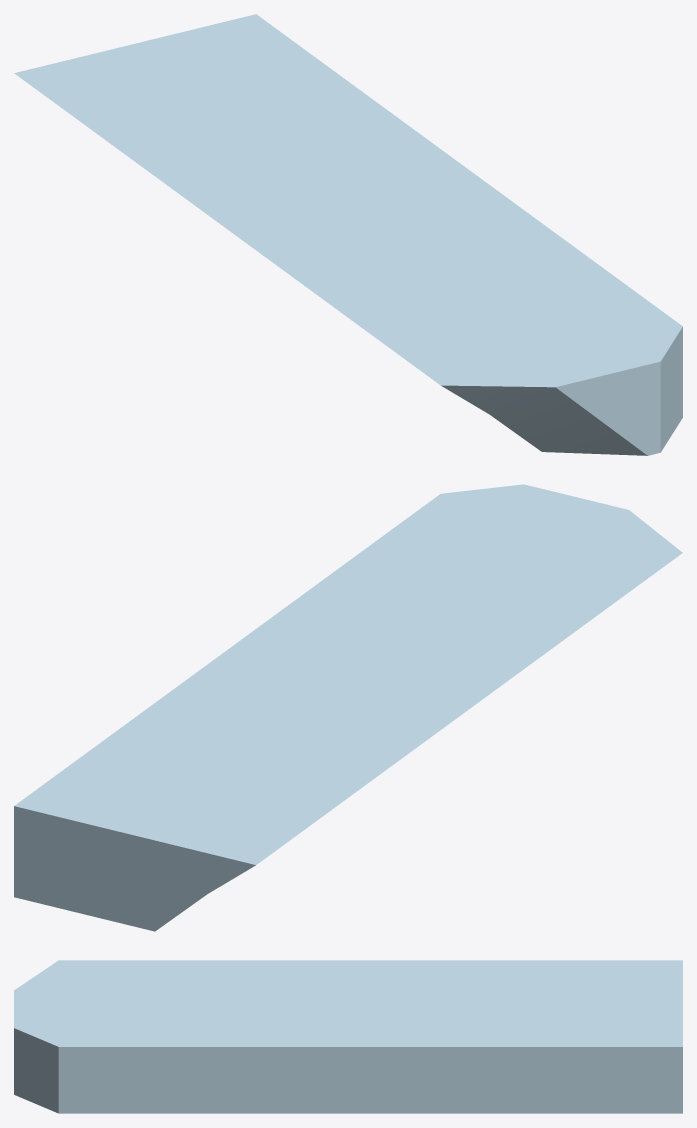
File: STAM - S6-1.gltf
3 renders of one model, top to bottom at view 1: azimuth 30°, elevation 25°; view 2: azimuth 150°, elevation 25°; view 3: azimuth 270°, elevation 25°, orthographic. The views are drawn at different scales.
Visible parts, largest first — view 1: S6-1; view 2: S6-1; view 3: S6-1.
Part boxes in pixels (left/top/right/bottom): S6-1: left=14, top=14, right=682, bottom=455; S6-1: left=14, top=484, right=682, bottom=931; S6-1: left=14, top=960, right=682, bottom=1113.
Size of the model in its own units: 0.00459 by 0.00165 by 0.015.
